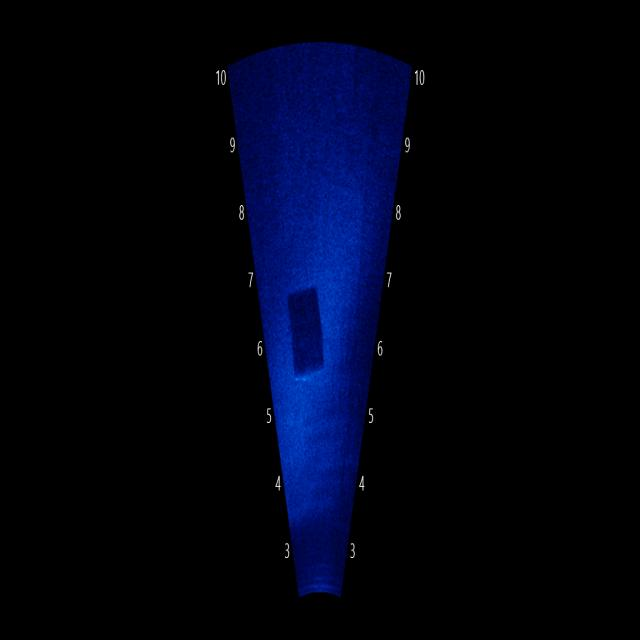square: (279, 274, 334, 396)
